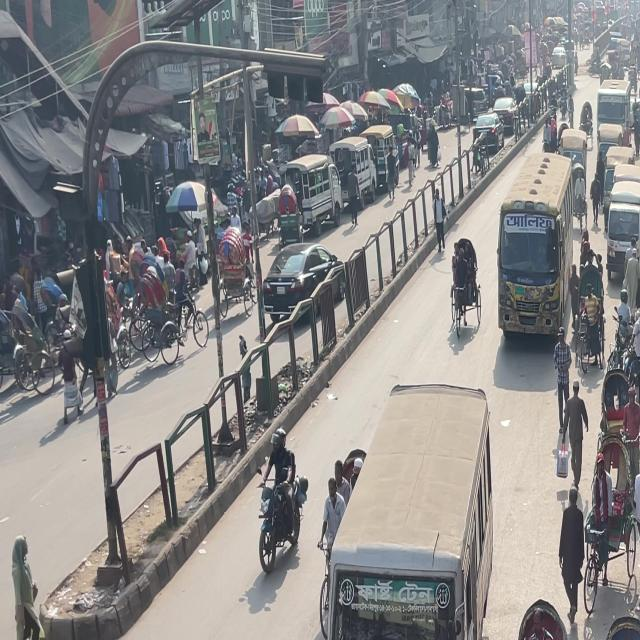bus: (326, 385, 487, 640), (501, 198, 574, 336)
car: (261, 246, 341, 327)
motorbike: (251, 397, 309, 585)
van: (599, 178, 640, 284)
